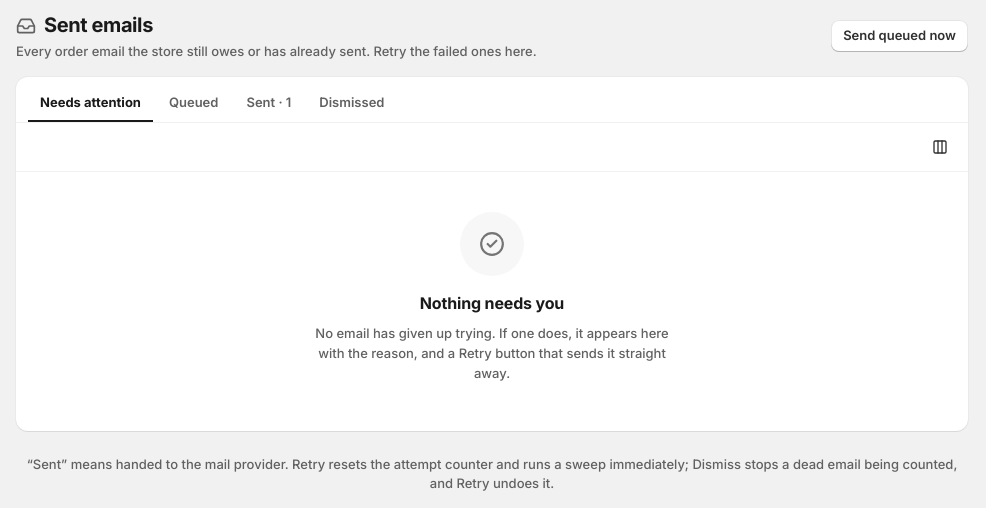
Test case: the two verbs › a SENT row offers View only — no retry, no dismiss
Click the tab "Sent · 1" at (269, 103), box [234,85,303,122]
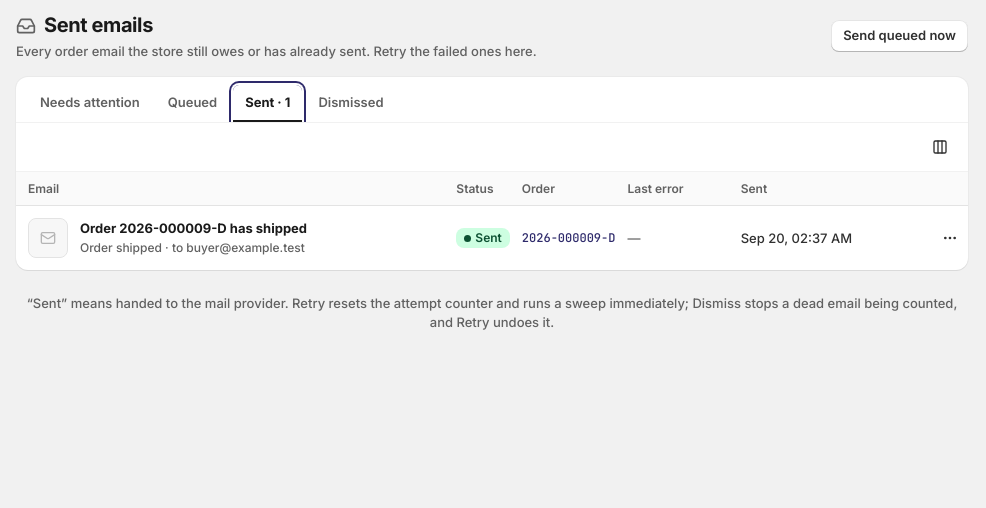
Now the text "Order 2026-000009-D has shipped" is shown, box [80,220,307,238]
Click the button named "Actions for Order" at (950, 238), box [932,220,968,256]
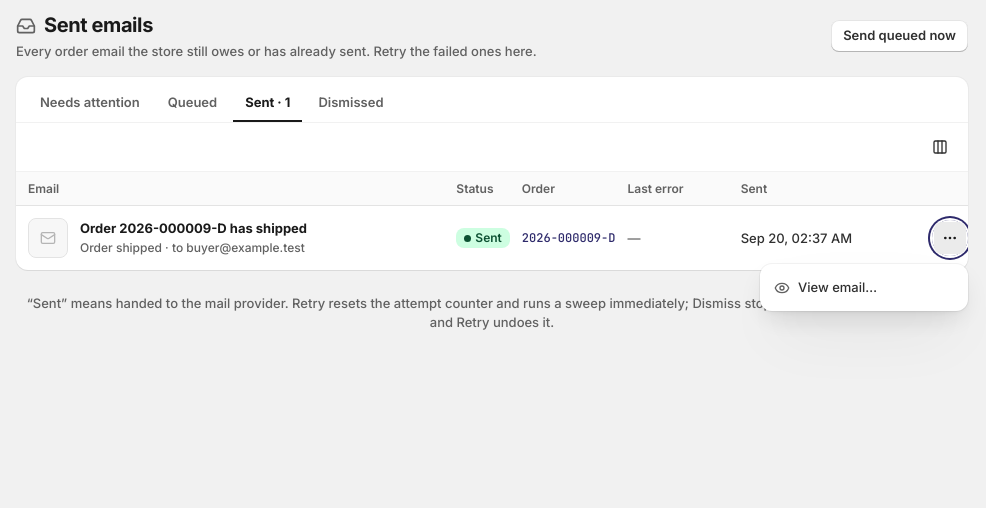
Now the menu item "View email…" is shown, box [766,270,962,305]
